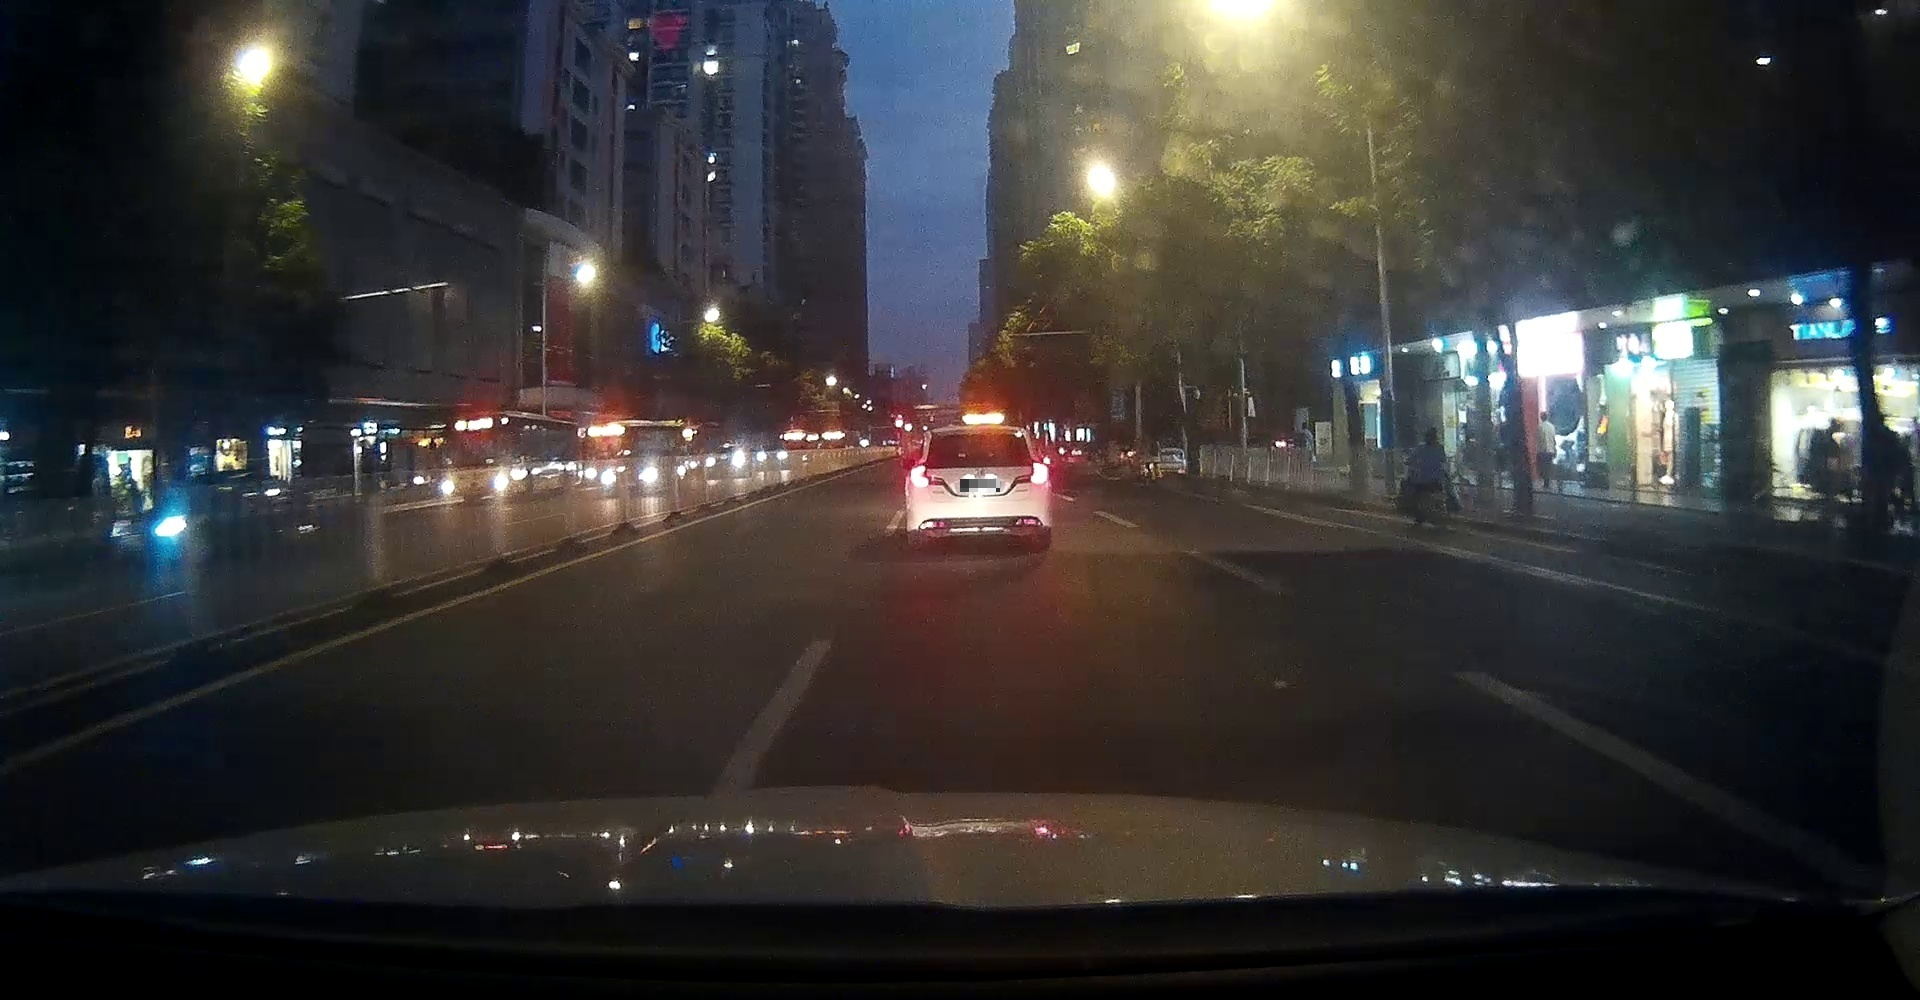L_light: (910, 464, 930, 489)
R_light: (1030, 462, 1049, 486)
T_light: (966, 429, 994, 437)
day-no: (904, 423, 1051, 548)
plate_1: (960, 478, 1001, 492)
